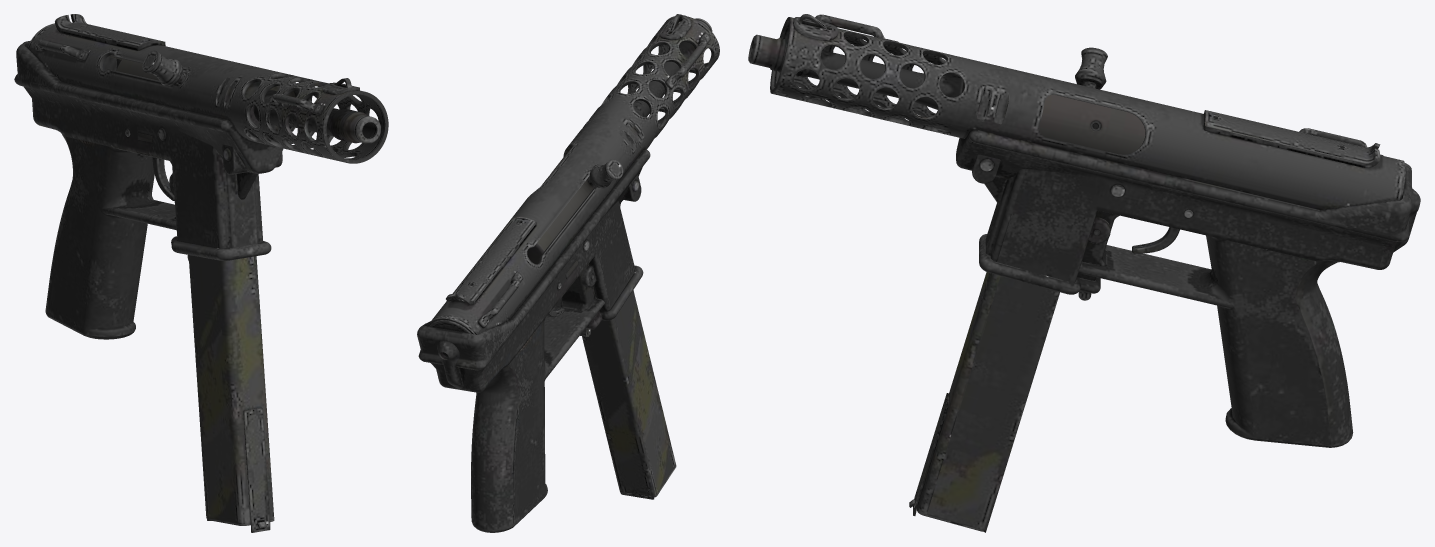
The model's file is p_tec9.glb.
3 views of the same model, side by side, from view 1: azimuth 30°, elevation 25°; view 2: azimuth 150°, elevation 25°; view 3: azimuth 270°, elevation 25° (orthographic). The views are drawn at different scales.
Parts seen in each view (by area): view 1: p_tec9; view 2: p_tec9; view 3: p_tec9.
Part boxes in pixels (bbox=[...]): p_tec9: bbox=[14, 14, 388, 532]; p_tec9: bbox=[417, 14, 719, 532]; p_tec9: bbox=[748, 14, 1420, 532].
Size of the model in its own units: 0.0733 by 0.3491 by 0.4035.
1 material, 1 textured.
